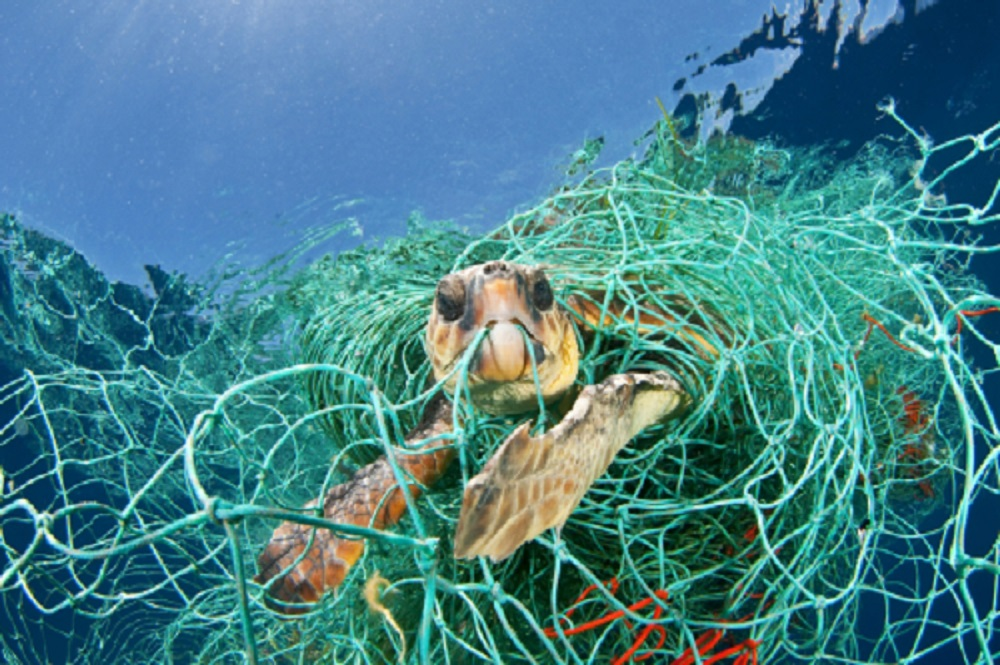litter: (33, 324, 380, 651), (669, 181, 991, 466), (597, 458, 970, 665), (283, 136, 459, 446)
